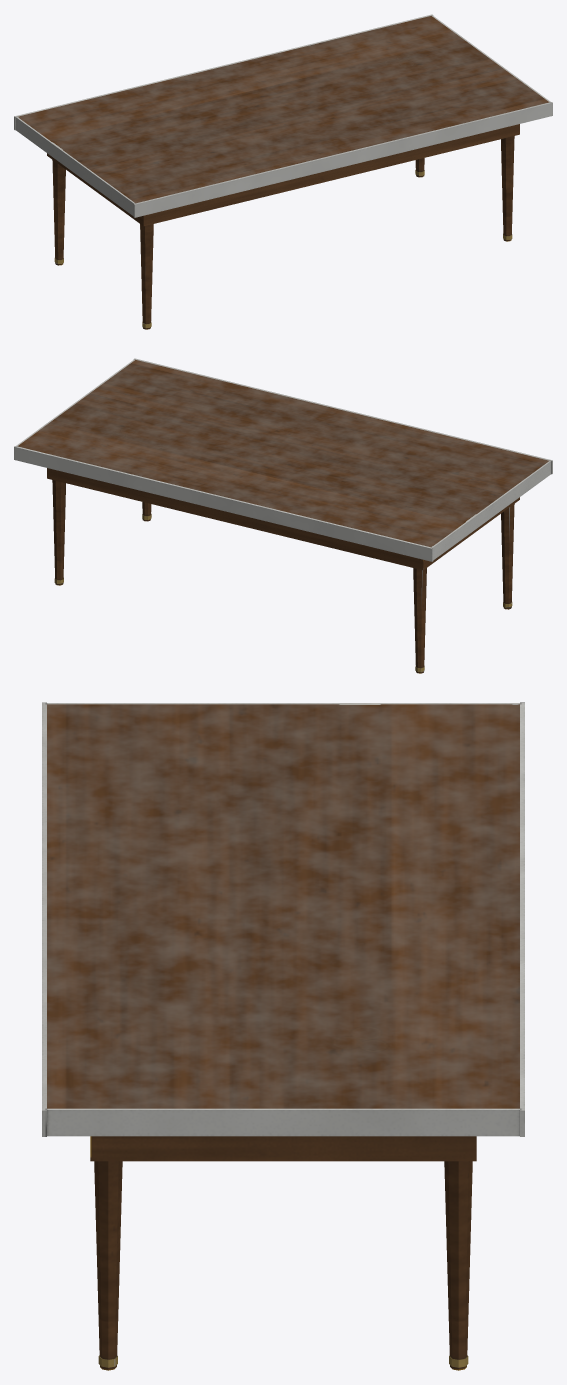
Rendered from H_DiningTable.fbx.
The picture shows the model from 3 angles, top to bottom: view 1: azimuth 30°, elevation 25°; view 2: azimuth 150°, elevation 25°; view 3: azimuth 270°, elevation 25°; orthographic projection. The views are drawn at different scales.
Visible parts, largest first — view 1: H_DiningTable; view 2: H_DiningTable; view 3: H_DiningTable.
Boxes of the visible parts, box(x1,y1,x2,y2) form: H_DiningTable: box(14, 14, 552, 329); H_DiningTable: box(14, 358, 552, 673); H_DiningTable: box(42, 702, 524, 1370).
Bounding box in the file's own units: 800 × 260 × 400.
1 material, 1 textured.
